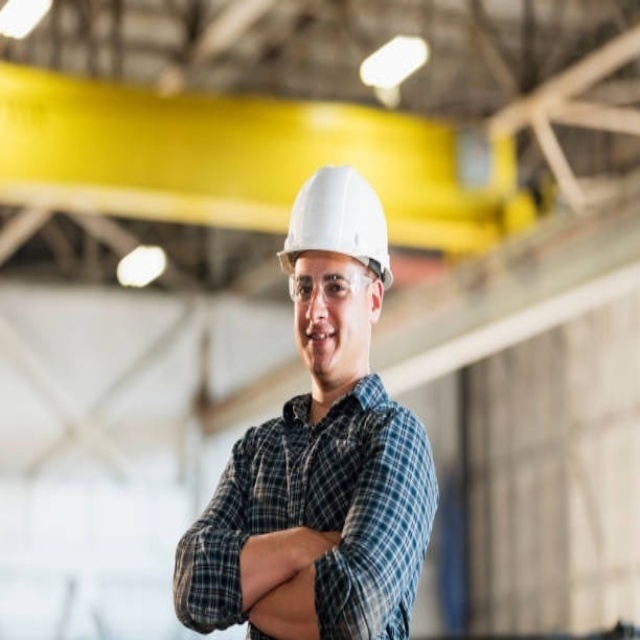Gafas: (286, 267, 377, 302)
Sin_mascara: (299, 318, 338, 364)
